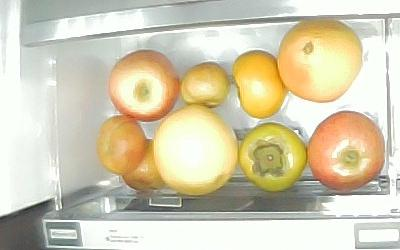apple: (306, 110, 385, 190), (107, 49, 178, 122)
grapefruit: (152, 105, 237, 195), (277, 19, 362, 103)
persimmon: (239, 121, 306, 192), (231, 49, 287, 120)
prune: (96, 114, 145, 174), (122, 136, 165, 193), (180, 61, 230, 108)
